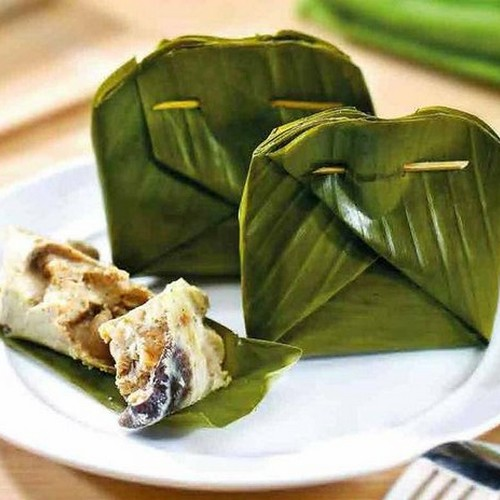tum ayam: (10, 233, 265, 442)
